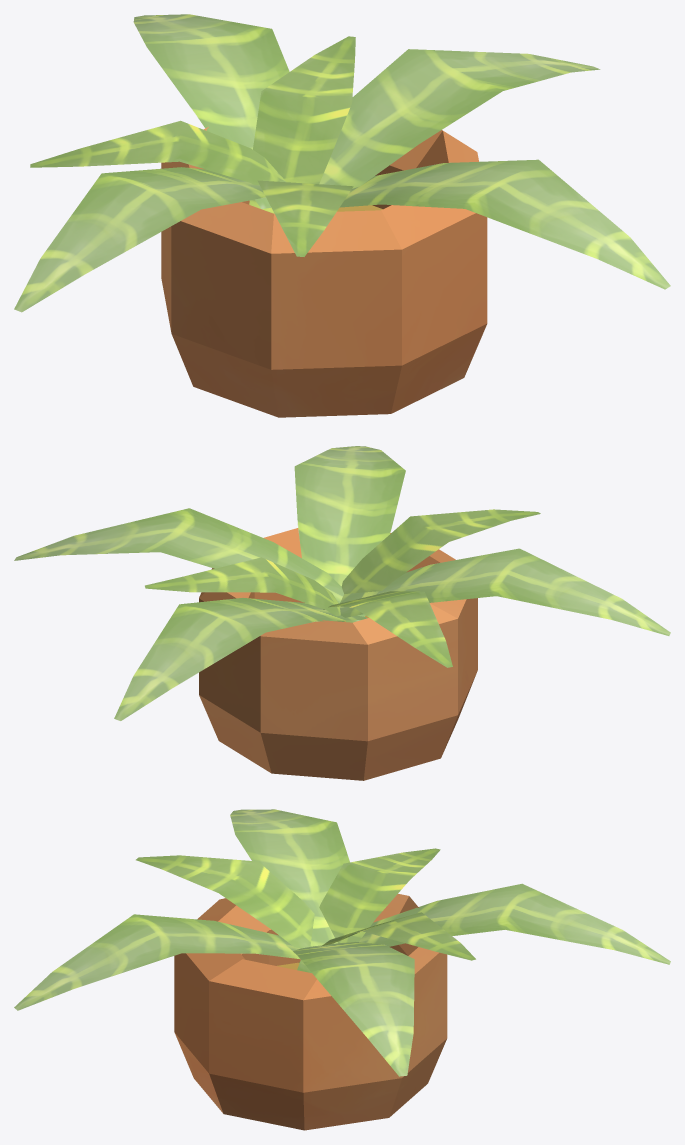
Rendered from FleurA.glb.
3 renders of one model, top to bottom at view 1: azimuth 30°, elevation 25°; view 2: azimuth 150°, elevation 25°; view 3: azimuth 270°, elevation 25°, orthographic. The views are drawn at different scales.
Visible parts, largest first — view 1: FleurA.004; view 2: FleurA.004; view 3: FleurA.004.
Boxes of the visible parts, bbox=[...] form: FleurA.004: bbox=[14, 14, 670, 417]; FleurA.004: bbox=[14, 446, 670, 780]; FleurA.004: bbox=[14, 809, 670, 1130].
Bounding box in the file's own units: 1.12 × 0.3546 × 1.17.
Materials: 1 (1 with a texture image).
